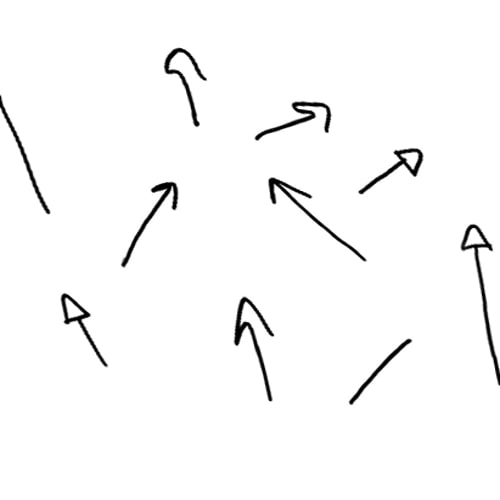arrow: (270, 177, 367, 261), (461, 222, 500, 385), (121, 180, 177, 265), (232, 293, 275, 402), (159, 48, 208, 128), (62, 292, 109, 368), (255, 102, 333, 142), (363, 149, 425, 196)
arrownohead: (1, 97, 51, 216), (350, 338, 414, 399)
